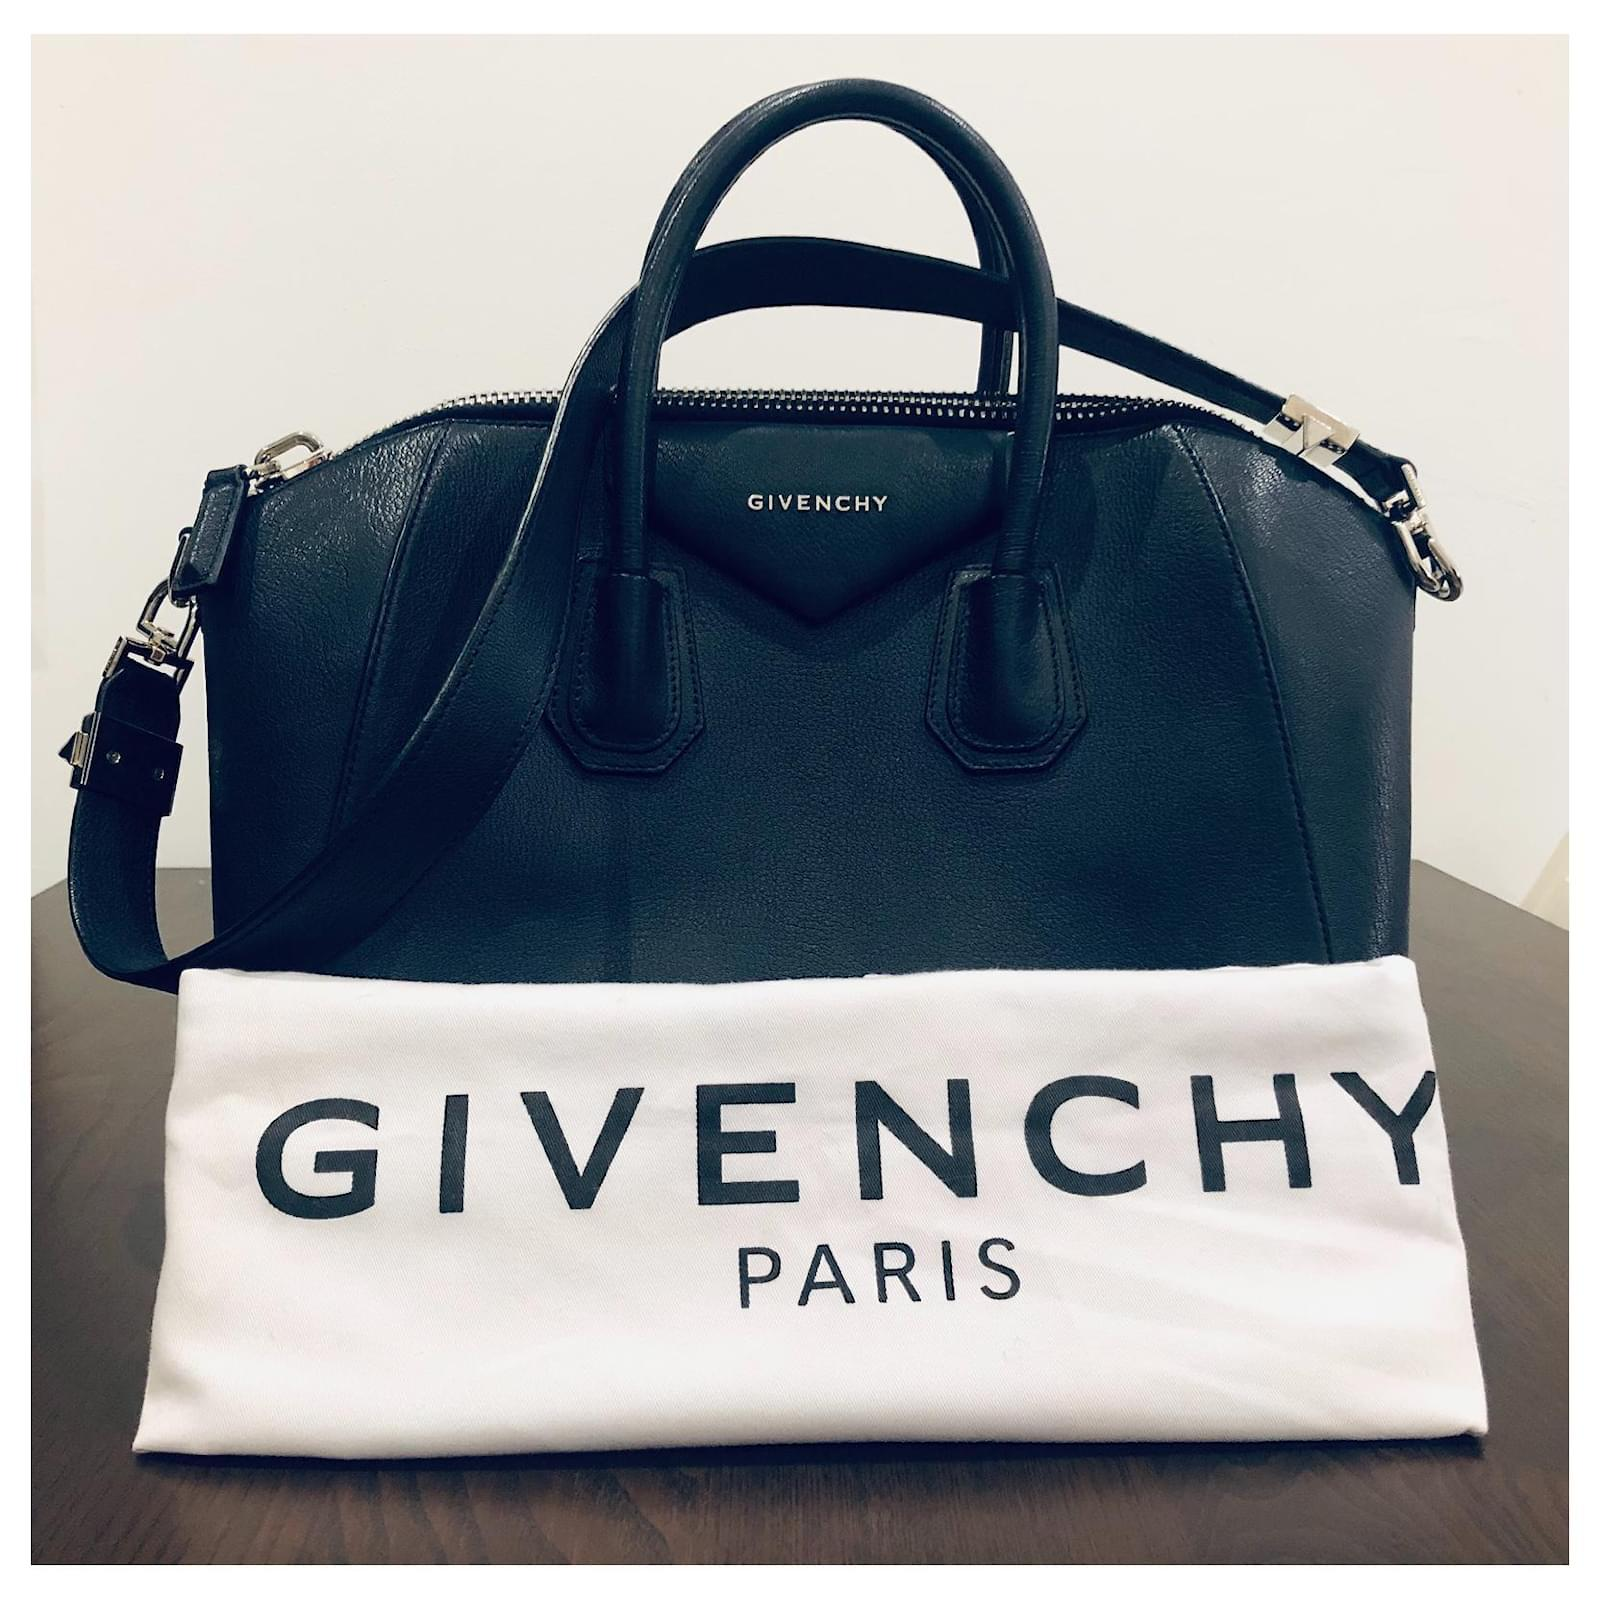GIVENCHY: (227, 1052, 1511, 1238), (716, 472, 930, 538)
